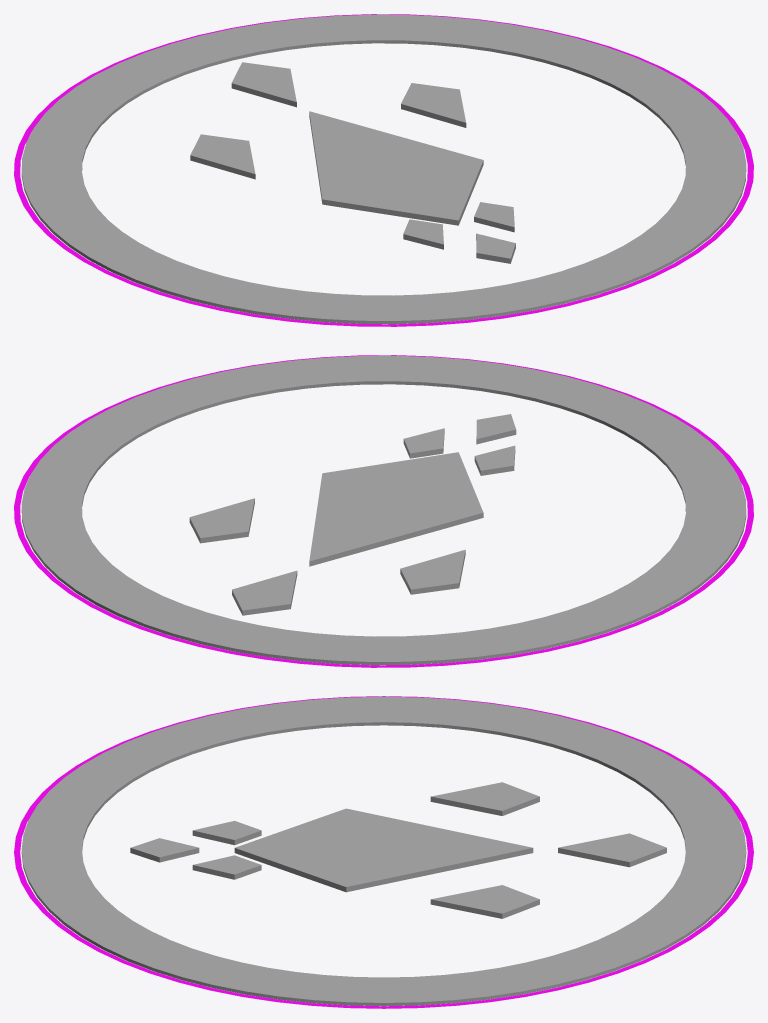
The model's file is SM_CentreFormation.fbx.
3 views of the same model, one above another, from view 1: azimuth 30°, elevation 25°; view 2: azimuth 150°, elevation 25°; view 3: azimuth 270°, elevation 25° (orthographic).
Parts seen in each view (by area): view 1: SM_Centre_InnerRing, SM_Diamon_Big, SM_Centre_Outline, SM_Diamond_Medium1, SM_Diamond_Medium2, SM_Diamond_Medium3, SM_Diamond_Small1, SM_Diamond_Small2, SM_Diamond_Small3; view 2: SM_Centre_InnerRing, SM_Diamon_Big, SM_Centre_Outline, SM_Diamond_Medium1, SM_Diamond_Medium2, SM_Diamond_Medium3, SM_Diamond_Small3, SM_Diamond_Small1, SM_Diamond_Small2; view 3: SM_Centre_InnerRing, SM_Diamon_Big, SM_Centre_Outline, SM_Diamond_Medium1, SM_Diamond_Medium2, SM_Diamond_Medium3, SM_Diamond_Small3, SM_Diamond_Small1, SM_Diamond_Small2.
Part boxes in pixels (box(x1,y1,x2,y2)): SM_Centre_InnerRing: box(21, 14, 746, 324); SM_Diamon_Big: box(309, 111, 483, 225); SM_Centre_Outline: box(14, 14, 753, 326); SM_Diamond_Medium1: box(190, 134, 255, 179); SM_Diamond_Medium2: box(401, 83, 466, 127); SM_Diamond_Medium3: box(231, 62, 296, 107); SM_Diamond_Small1: box(474, 202, 514, 232); SM_Diamond_Small2: box(403, 219, 443, 249); SM_Diamond_Small3: box(476, 233, 515, 263); SM_Centre_InnerRing: box(21, 355, 746, 665); SM_Diamon_Big: box(309, 452, 483, 566); SM_Centre_Outline: box(14, 355, 753, 667); SM_Diamond_Medium1: box(400, 549, 465, 594); SM_Diamond_Medium2: box(189, 498, 254, 543); SM_Diamond_Medium3: box(232, 570, 297, 615); SM_Diamond_Small3: box(476, 414, 516, 444); SM_Diamond_Small1: box(403, 428, 444, 458); SM_Diamond_Small2: box(474, 445, 515, 475); SM_Centre_InnerRing: box(21, 696, 746, 1006); SM_Diamon_Big: box(234, 808, 533, 892); SM_Centre_Outline: box(14, 696, 753, 1008); SM_Diamond_Medium1: box(430, 782, 539, 815); SM_Diamond_Medium2: box(430, 885, 539, 918); SM_Diamond_Medium3: box(558, 833, 666, 867); SM_Diamond_Small3: box(130, 838, 199, 862); SM_Diamond_Small1: box(192, 855, 261, 879); SM_Diamond_Small2: box(192, 821, 261, 845).
Bounding box in the file's own units: 12 × 12 × 0.0936.
